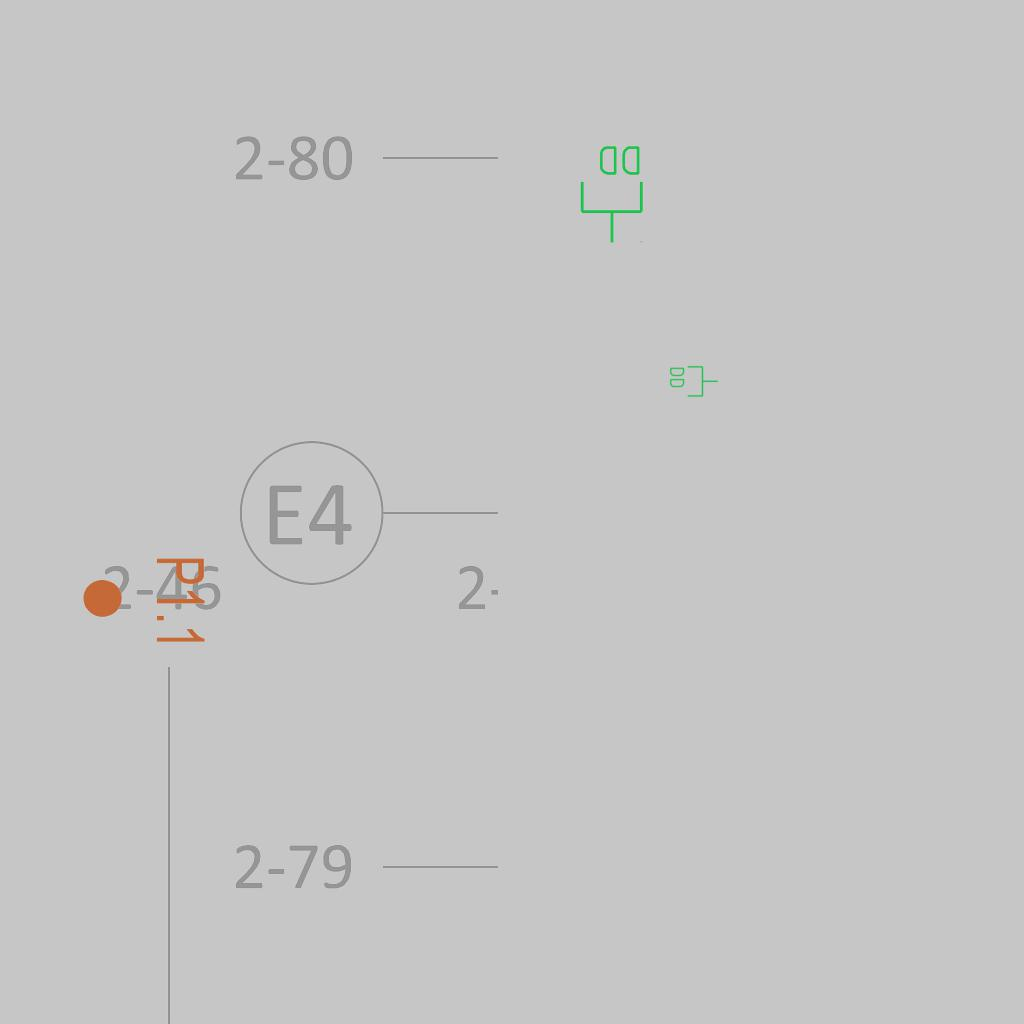Datenanschluss_zweifach: (578, 142, 647, 245), (668, 364, 719, 398)
Downlight_LED_Einbauleuchten_Flur: (80, 555, 208, 648)
